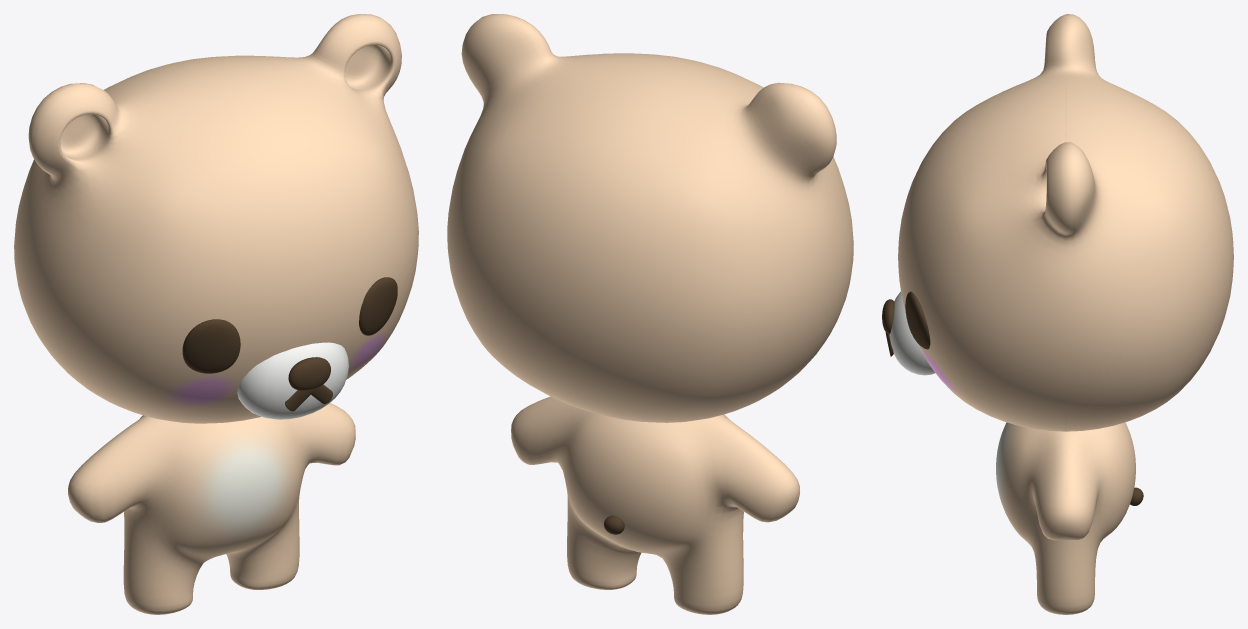
Rendered from クマのキャラクター.glb.
The picture shows the model from 3 angles, left to right: view 1: azimuth 30°, elevation 25°; view 2: azimuth 150°, elevation 25°; view 3: azimuth 270°, elevation 25°; orthographic projection. The views are drawn at different scales.
Visible parts, largest first — view 1: Cube.001, Cube.002, 立方体, 立方体.002, 立方体.001, 立方体.003; view 2: Cube.001, Cube.002; view 3: Cube.001, Cube.002, 立方体, 立方体.002.
Boxes of the visible parts, left/top/right/bottom form: Cube.001: left=14, top=14, right=418, bottom=423; Cube.002: left=68, top=403, right=355, bottom=614; 立方体: left=237, top=342, right=348, bottom=419; 立方体.002: left=182, top=277, right=397, bottom=373; 立方体.001: left=288, top=357, right=330, bottom=390; 立方体.003: left=285, top=384, right=332, bottom=411; Cube.001: left=447, top=14, right=853, bottom=422; Cube.002: left=511, top=396, right=799, bottom=614; Cube.001: left=898, top=14, right=1233, bottom=431; Cube.002: left=996, top=422, right=1135, bottom=614; 立方体: left=889, top=291, right=935, bottom=375; 立方体.002: left=905, top=291, right=930, bottom=349.
Size of the model in its own units: 3.18 by 4.46 by 2.82.
3 materials, 1 textured.
